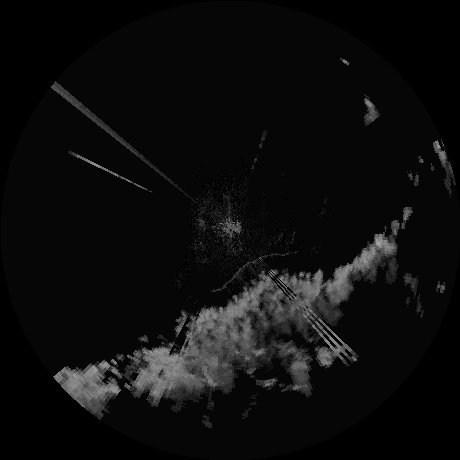frontgust: (207, 252, 283, 294)
